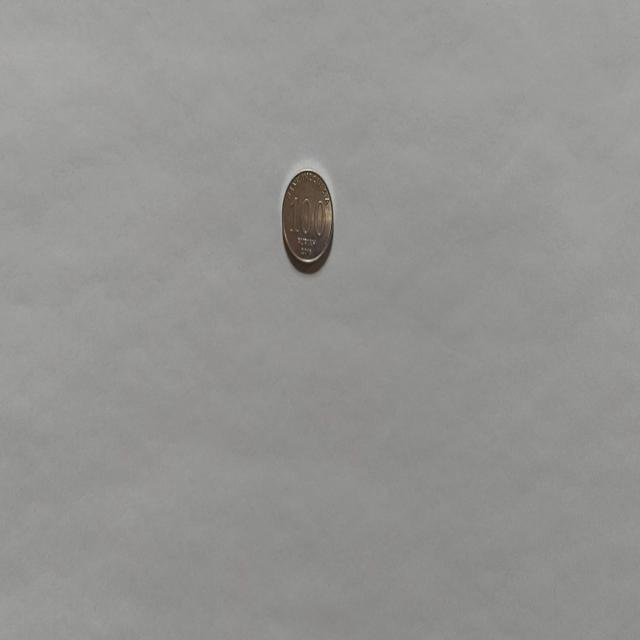seratus rupiah: (280, 166, 334, 273)
